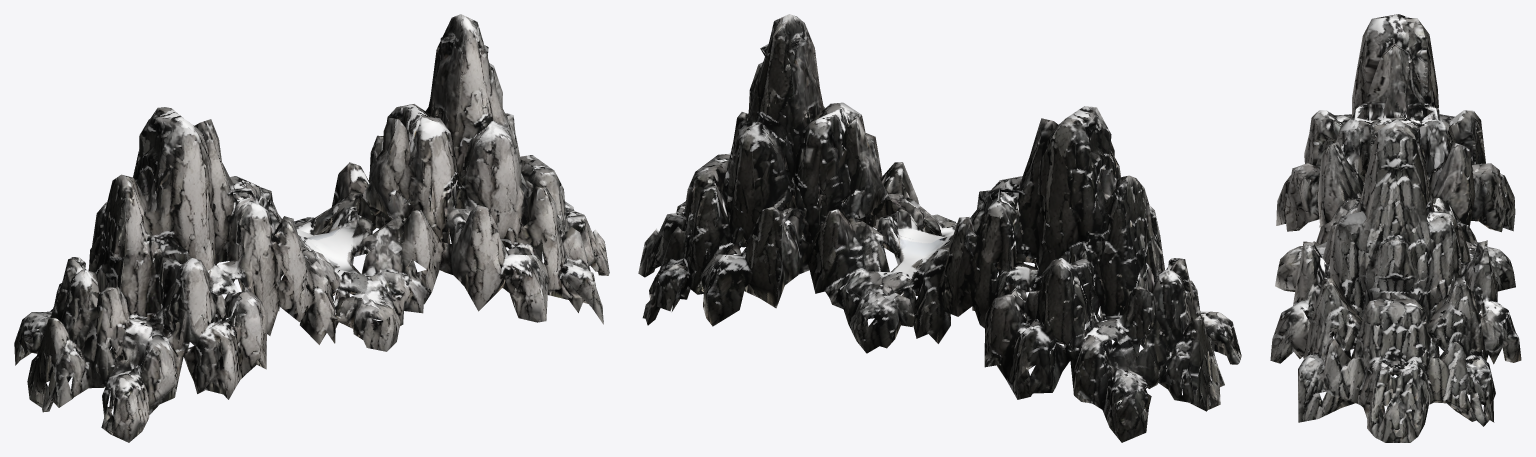
Rendered from InkSaddle.glb.
3 views of the same model, side by side, from view 1: azimuth 30°, elevation 25°; view 2: azimuth 150°, elevation 25°; view 3: azimuth 270°, elevation 25° (orthographic). The views are drawn at different scales.
Visible parts, largest first — view 1: texture_mapping; view 2: texture_mapping; view 3: texture_mapping.
Part boxes in pixels (bbox=[...]): texture_mapping: bbox=[14, 14, 609, 442]; texture_mapping: bbox=[638, 14, 1241, 442]; texture_mapping: bbox=[1270, 14, 1521, 442].
Bounding box in the file's own units: 0.9839 × 0.4848 × 0.4166.
1 material, 1 textured.
